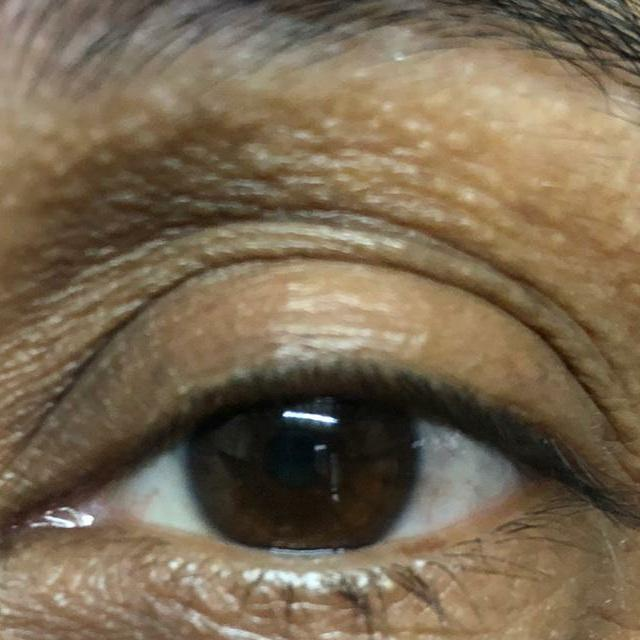eye: (96, 386, 527, 557)
iris: (186, 399, 420, 550)
